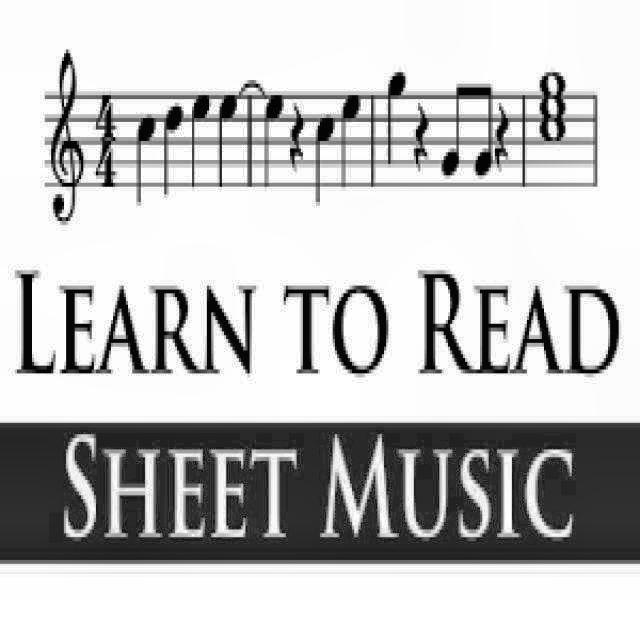Eighth-note: (440, 81, 472, 183), (468, 78, 494, 178)
Quarter-note: (338, 88, 364, 192), (312, 110, 338, 210), (190, 86, 214, 194), (264, 88, 288, 196), (162, 97, 186, 199), (134, 108, 158, 208), (217, 88, 240, 190), (386, 68, 409, 168)
Quarter-rest: (490, 94, 514, 176), (286, 98, 308, 182), (411, 102, 433, 178)
Treble-clef: (48, 44, 86, 228)
